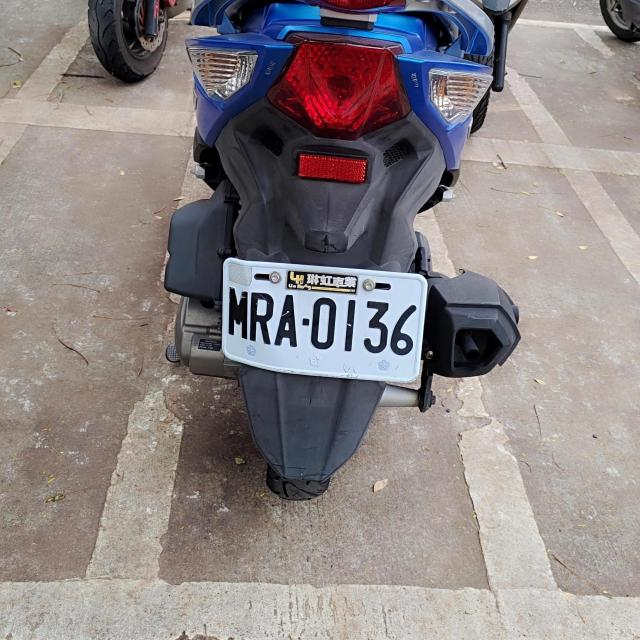W: (221, 258, 428, 385)
